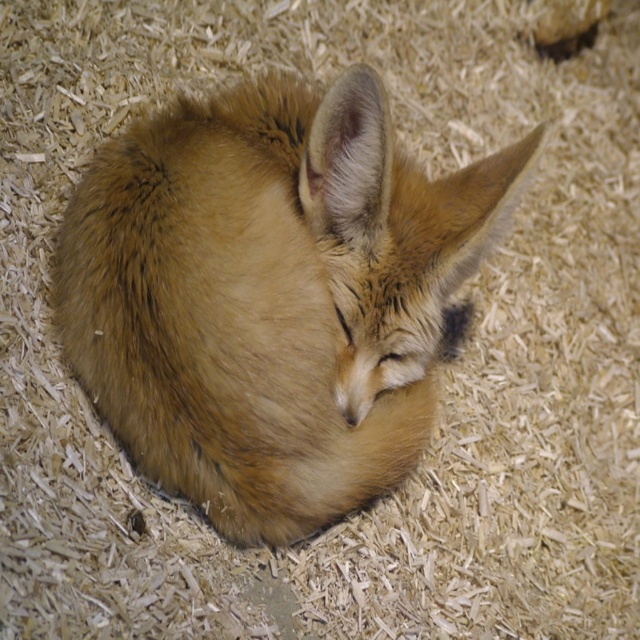Fox: (42, 61, 553, 550)
